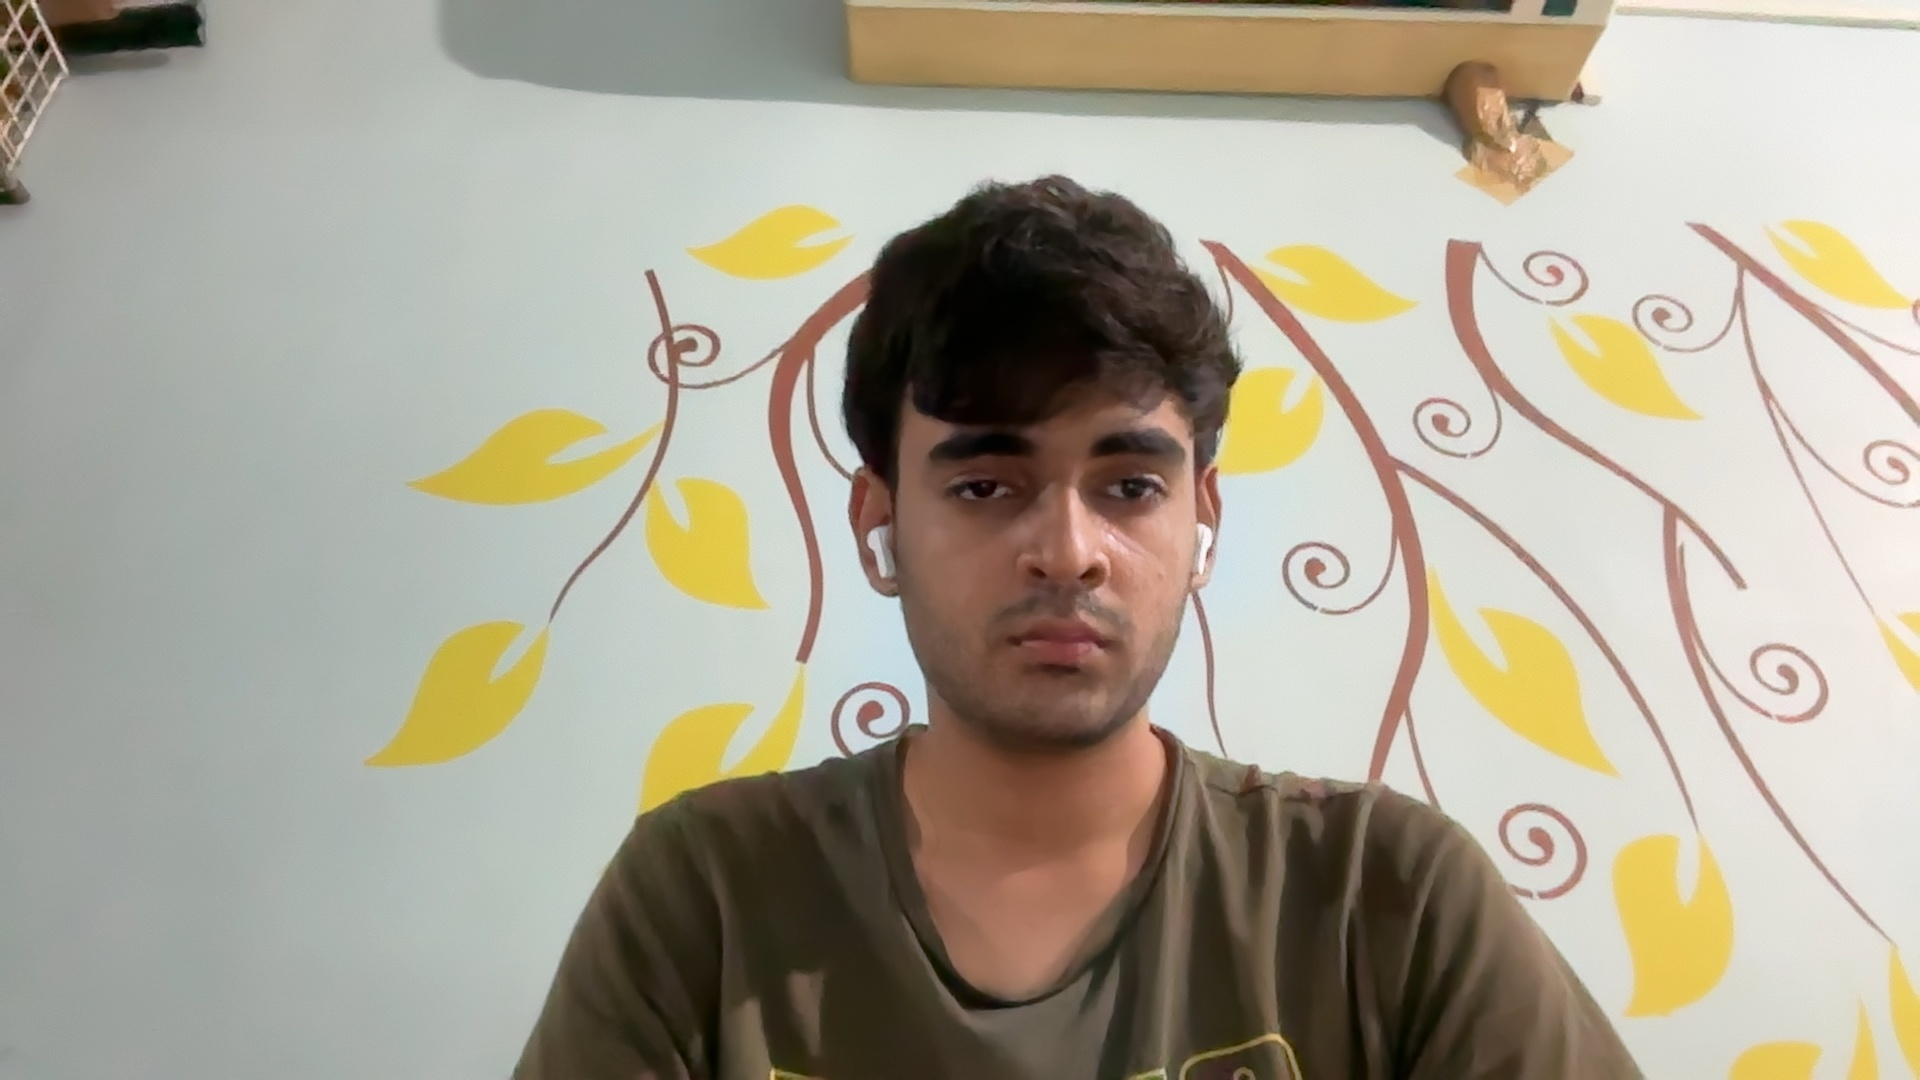No Mask: (910, 534, 1209, 738)
